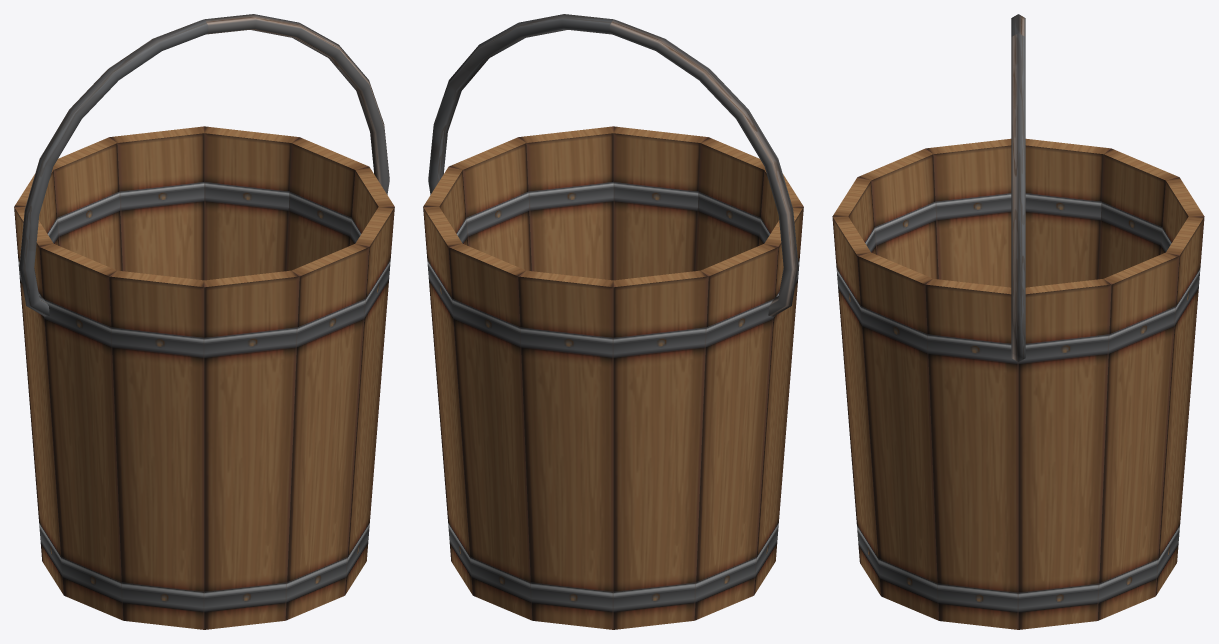
The model's file is Scuttle_01.FBX.
The picture shows the model from 3 angles, left to right: view 1: azimuth 30°, elevation 25°; view 2: azimuth 150°, elevation 25°; view 3: azimuth 270°, elevation 25°; orthographic projection. The views are drawn at different scales.
Parts seen in each view (by area): view 1: Body, Handle; view 2: Body, Handle; view 3: Body, Handle.
Part boxes in pixels (left/top/right/bottom): Body: left=14, top=126, right=394, bottom=629; Handle: left=19, top=14, right=389, bottom=316; Body: left=423, top=126, right=803, bottom=629; Handle: left=428, top=14, right=798, bottom=316; Body: left=832, top=138, right=1204, bottom=629; Handle: left=1011, top=14, right=1025, bottom=361.
Size of the model in its own units: 0.6184 by 0.866 by 0.5513.
